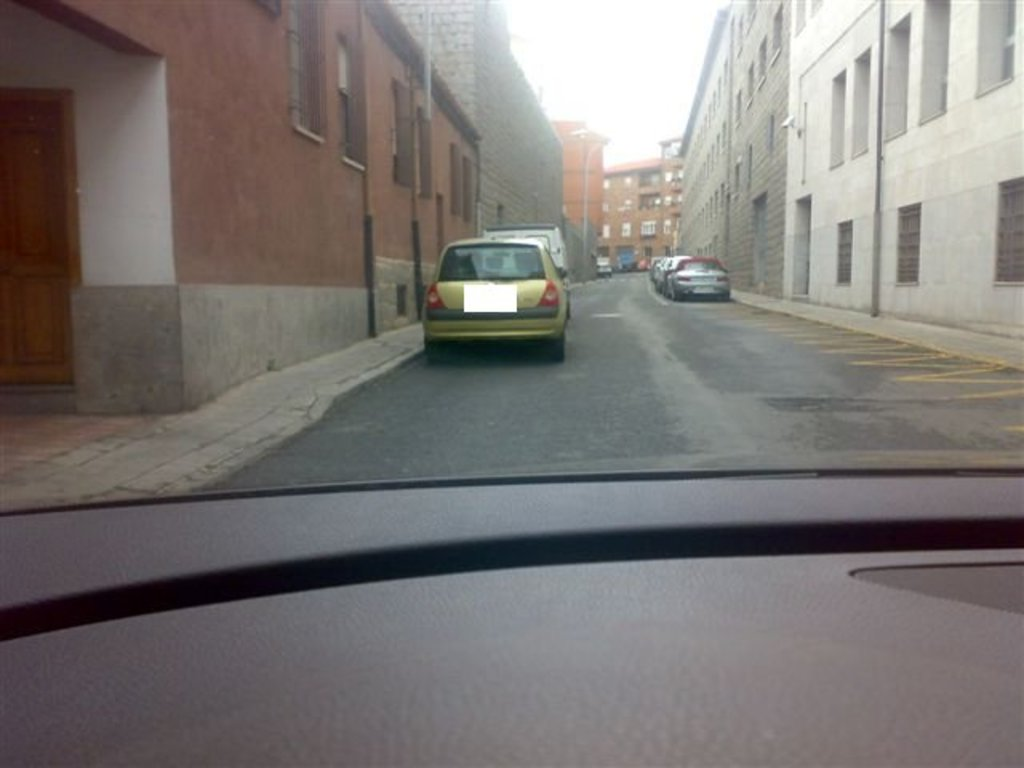Car: (427, 230, 571, 360), (486, 219, 569, 279), (644, 251, 732, 297)
